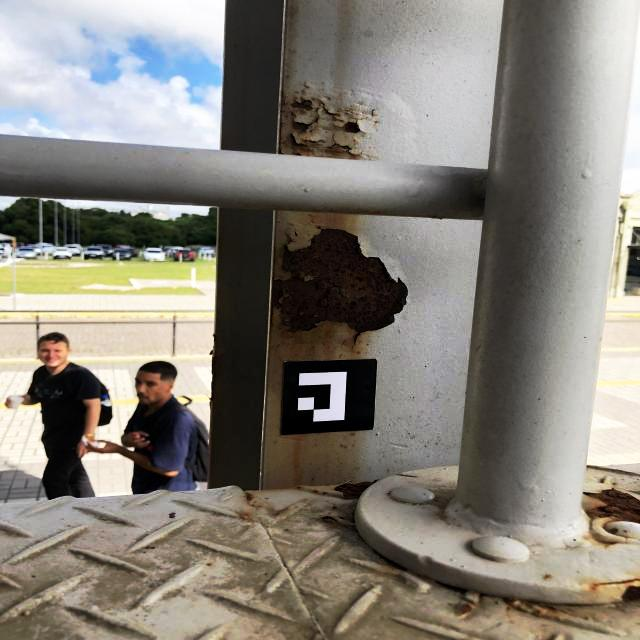Corrosion: (273, 220, 410, 336), (278, 89, 374, 160), (585, 488, 640, 523), (509, 597, 564, 621), (332, 478, 383, 501), (458, 601, 479, 615), (623, 586, 640, 603)
